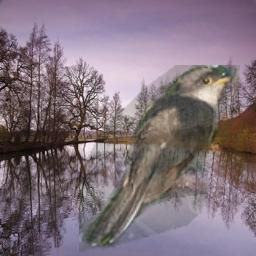Cuckoo: (79, 65, 240, 253)
